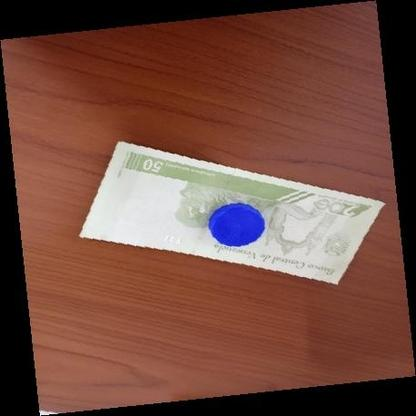fifty-back-vef: (78, 141, 386, 285)
